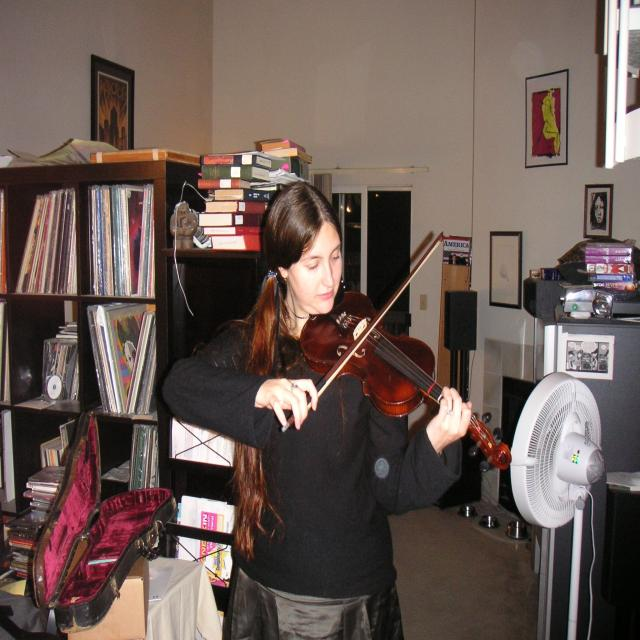violin: (296, 287, 516, 476)
